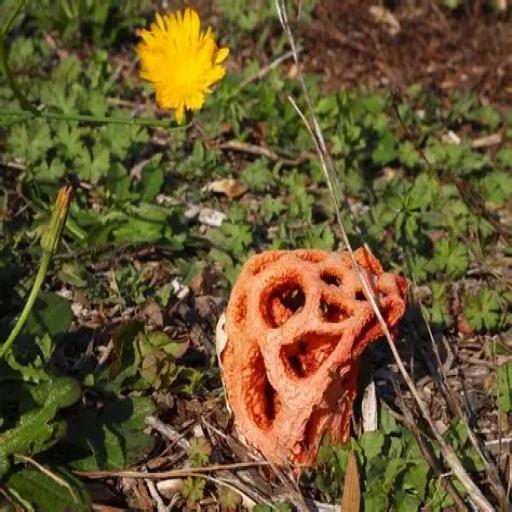mushroom: (218, 248, 407, 456)
